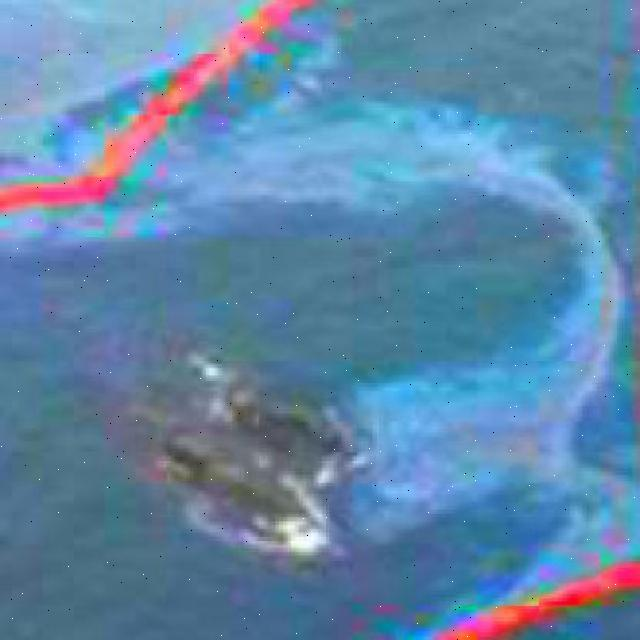sheen: (169, 117, 618, 548)
